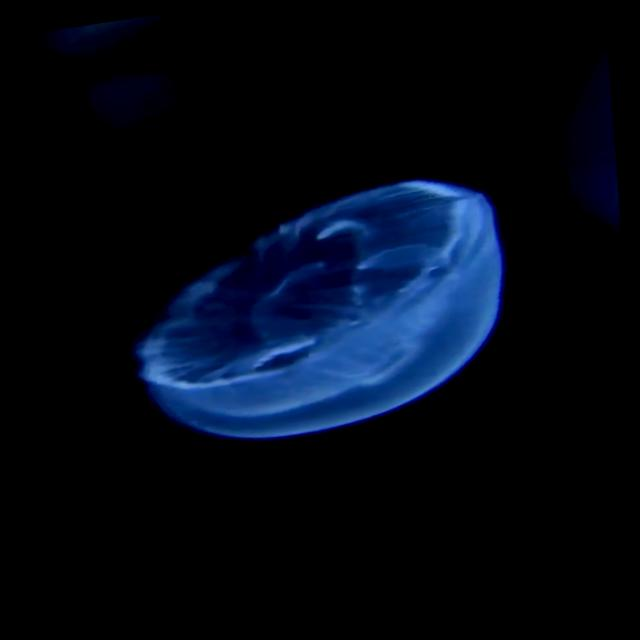Moon-jellyfish: (141, 182, 504, 438)
